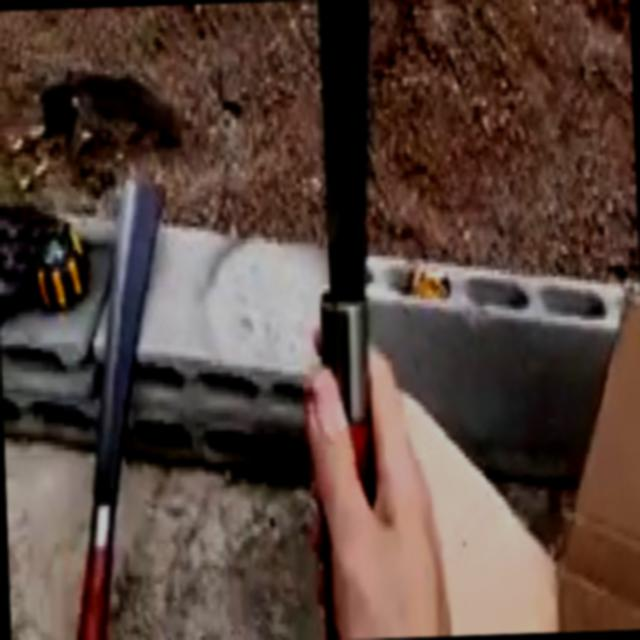eto: (76, 170, 167, 640)
